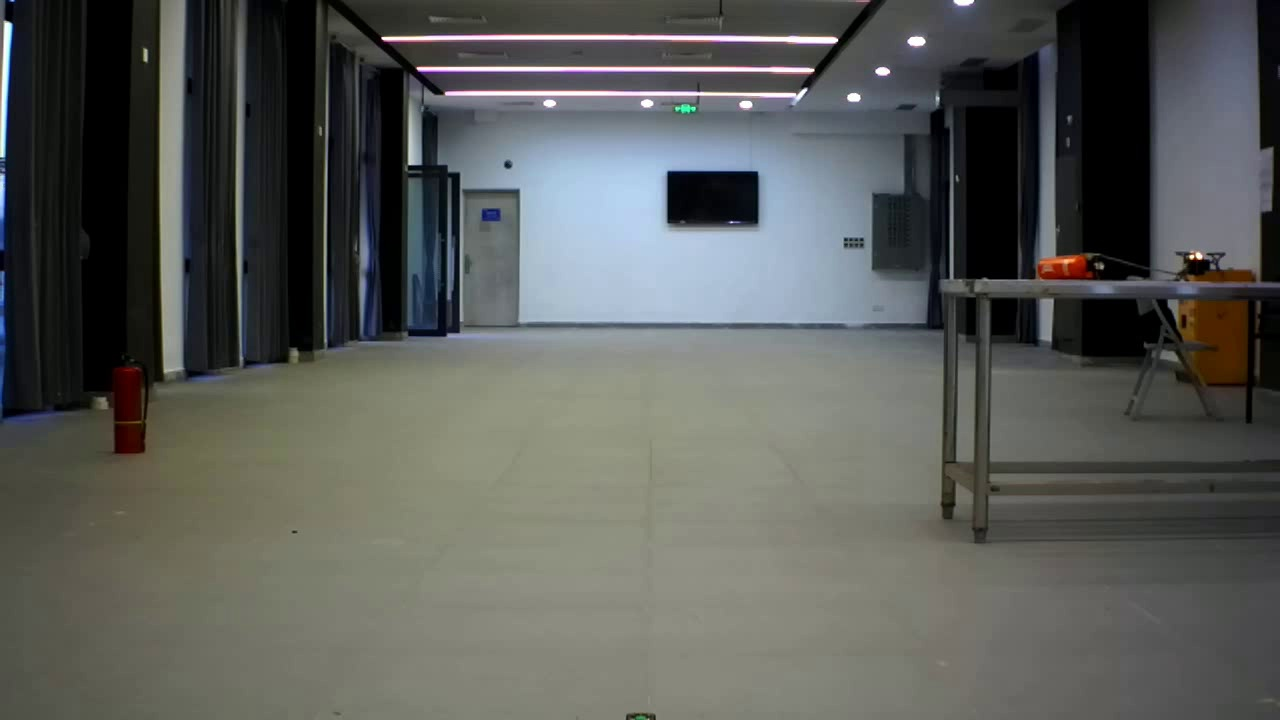Fire: (1179, 239, 1214, 271)
